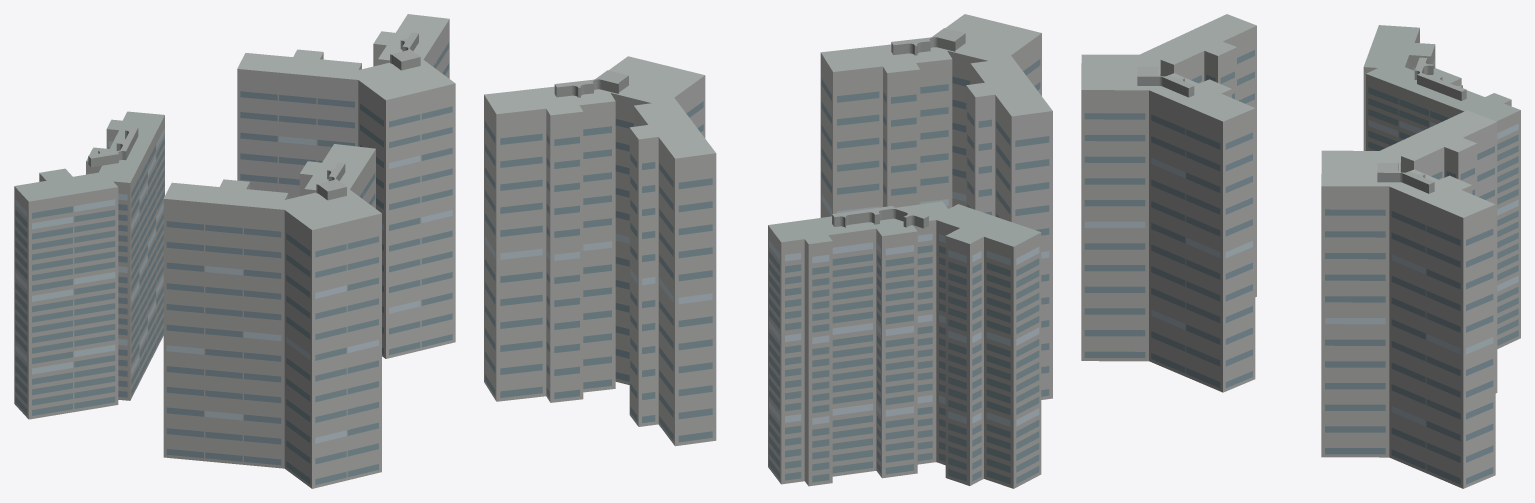
File: apt-a13778210.glb
3 views of the same model, side by side, from view 1: azimuth 30°, elevation 25°; view 2: azimuth 150°, elevation 25°; view 3: azimuth 270°, elevation 25° (orthographic). The views are drawn at different scales.
Parts seen in each view (by area): view 1: apt-a13778210; view 2: apt-a13778210; view 3: apt-a13778210.
Part boxes in pixels (box(x1,y1,x2,y2)): apt-a13778210: box(14, 14, 455, 488); apt-a13778210: box(484, 14, 1052, 488); apt-a13778210: box(1081, 14, 1520, 488).
Bounding box in the file's own units: 130 × 72 × 102.
